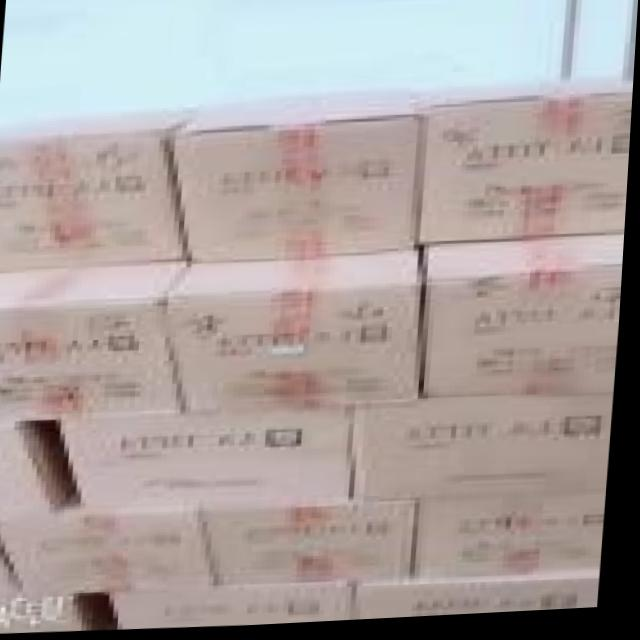box: (167, 92, 422, 266), (166, 252, 427, 414), (420, 84, 635, 249), (422, 241, 628, 403), (0, 109, 199, 270), (0, 260, 190, 424), (61, 410, 355, 513), (355, 401, 618, 503), (0, 510, 225, 598), (210, 505, 421, 588), (421, 497, 612, 586), (359, 579, 607, 624), (112, 588, 362, 631), (0, 424, 77, 515), (0, 597, 94, 634), (0, 531, 34, 600)
